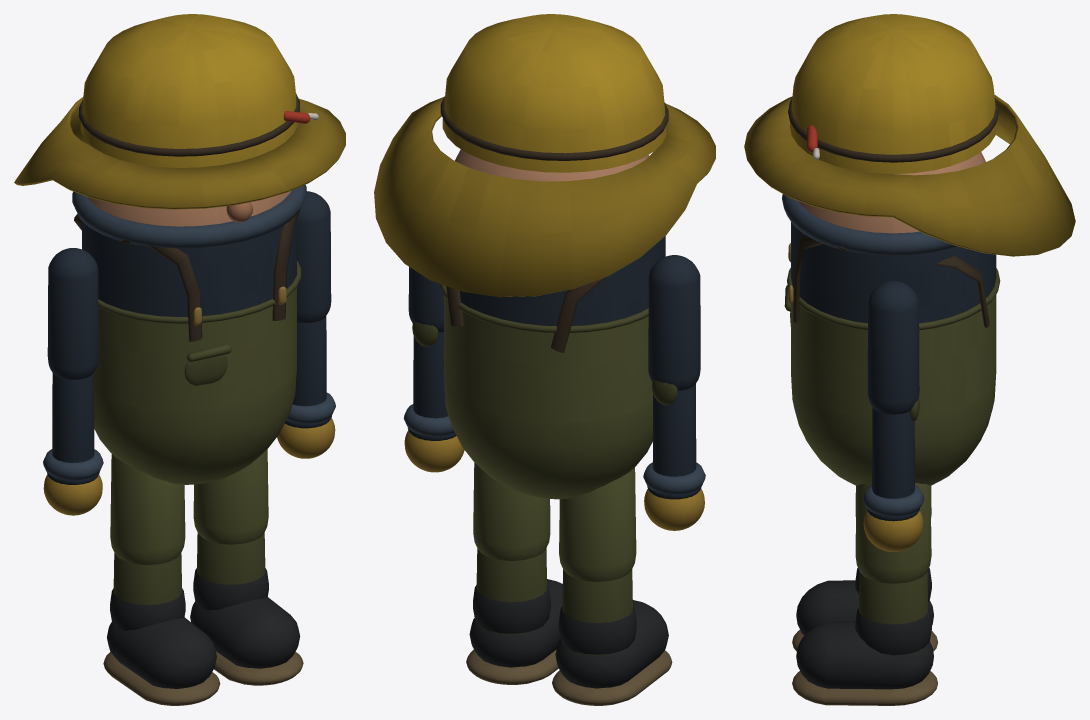
File: jellybean.glb
3 renders of one model, left to right at view 1: azimuth 30°, elevation 25°; view 2: azimuth 150°, elevation 25°; view 3: azimuth 270°, elevation 25°, orthographic. The views are drawn at different scales.
Visible parts, largest first — view 1: body_capsule, body_hat, body_brim, leg_thigh_R, arm_upper_R, leg_boot_R, leg_boot_L, body_collar, leg_thigh_L, arm_upper_L, arm_fore_R, leg_shin_R (+15 smaller); view 2: body_capsule, body_brim, body_hat, leg_thigh_R, arm_upper_R, leg_thigh_L, leg_boot_R, arm_fore_R, leg_boot_L, leg_shin_R, leg_shin_L, leg_shaft_R (+12 smaller); view 3: body_capsule, body_hat, body_brim, arm_upper_L, leg_boot_L, body_collar, leg_thigh_L, arm_fore_L, leg_shin_L, leg_sole_L, leg_boot_R, leg_shaft_L (+5 smaller).
Part boxes in pixels (x1=…): body_capsule: x1=82, y1=191, x2=296, y2=484; body_hat: x1=80, y1=14, x2=297, y2=167; body_brim: x1=14, y1=97, x2=345, y2=209; leg_thigh_R: x1=110, y1=454, x2=185, y2=564; arm_upper_R: x1=47, y1=248, x2=98, y2=379; leg_boot_R: x1=107, y1=617, x2=216, y2=688; leg_boot_L: x1=190, y1=597, x2=300, y2=668; body_collar: x1=72, y1=184, x2=306, y2=248; leg_thigh_L: x1=193, y1=449, x2=268, y2=544; arm_upper_L: x1=297, y1=191, x2=331, y2=322; arm_fore_R: x1=52, y1=373, x2=94, y2=462; leg_shin_R: x1=113, y1=553, x2=181, y2=624; body_capsule: x1=444, y1=149, x2=665, y2=499; body_brim: x1=374, y1=97, x2=715, y2=297; body_hat: x1=442, y1=14, x2=666, y2=172; leg_thigh_R: x1=559, y1=467, x2=636, y2=581; arm_upper_R: x1=648, y1=255, x2=700, y2=390; leg_thigh_L: x1=473, y1=462, x2=550, y2=560; leg_boot_R: x1=555, y1=600, x2=668, y2=688; arm_fore_R: x1=652, y1=384, x2=696, y2=476; leg_boot_L: x1=469, y1=579, x2=562, y2=667; leg_shin_R: x1=562, y1=569, x2=632, y2=656; leg_shin_L: x1=476, y1=548, x2=546, y2=635; leg_shaft_R: x1=558, y1=606, x2=636, y2=654; body_capsule: x1=791, y1=152, x2=996, y2=485; body_hat: x1=789, y1=14, x2=997, y2=174; body_brim: x1=744, y1=94, x2=1075, y2=256; arm_upper_L: x1=867, y1=281, x2=919, y2=414; leg_boot_L: x1=796, y1=621, x2=933, y2=689; body_collar: x1=782, y1=194, x2=956, y2=255; leg_thigh_L: x1=855, y1=483, x2=931, y2=583; arm_fore_L: x1=872, y1=407, x2=914, y2=498; leg_shin_L: x1=859, y1=571, x2=928, y2=655; leg_sole_L: x1=792, y1=671, x2=937, y2=705; leg_boot_R: x1=796, y1=580, x2=933, y2=635; leg_shaft_L: x1=855, y1=607, x2=931, y2=655.
Bounding box in the file's own units: 0.822 × 1.76 × 0.8169.
